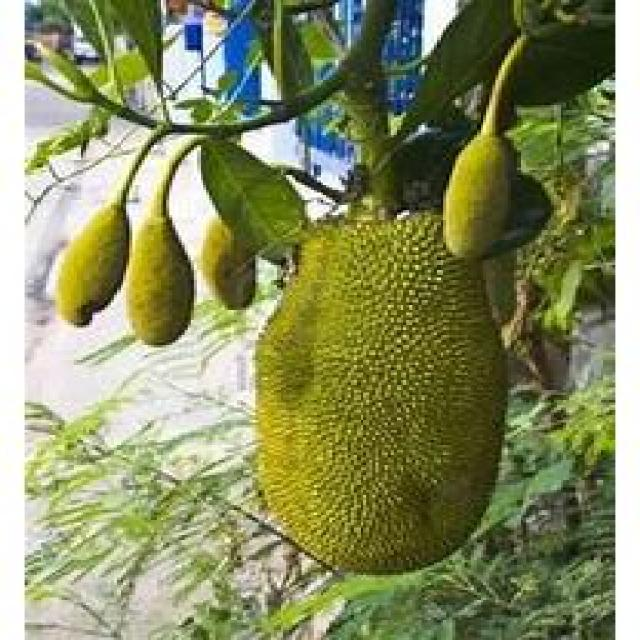Fruit: (218, 195, 532, 603)
